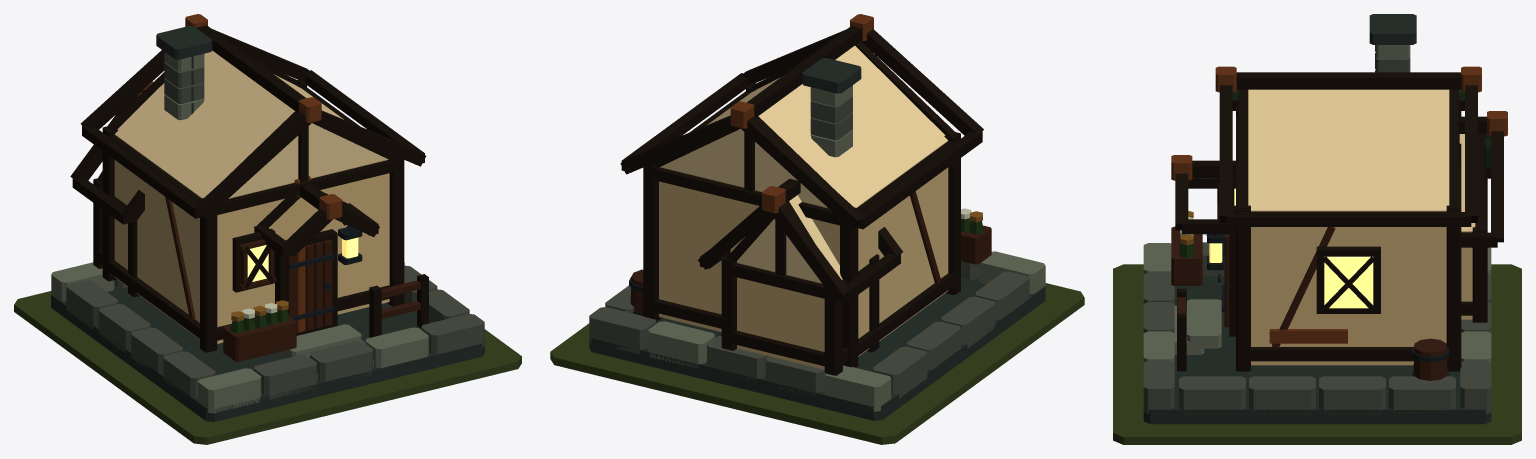
Rendered from cottage_t4.glb.
The picture shows the model from 3 angles, left to right: view 1: azimuth 30°, elevation 25°; view 2: azimuth 150°, elevation 25°; view 3: azimuth 270°, elevation 25°; orthographic projection. The views are drawn at different scales.
Visible parts, largest first — view 1: MMR | cottage | T04 Architecture.001, MMR | cottage | Tier 04 Ground.001; view 2: MMR | cottage | T04 Architecture.001, MMR | cottage | Tier 04 Ground.001; view 3: MMR | cottage | T04 Architecture.001, MMR | cottage | Tier 04 Ground.001.
Part boxes in pixels (x1=…): MMR | cottage | T04 Architecture.001: x1=51, y1=14, x2=484, y2=421; MMR | cottage | Tier 04 Ground.001: x1=14, y1=291, x2=521, y2=444; MMR | cottage | T04 Architecture.001: x1=589, y1=14, x2=1045, y2=420; MMR | cottage | Tier 04 Ground.001: x1=550, y1=283, x2=1084, y2=444; MMR | cottage | T04 Architecture.001: x1=1143, y1=14, x2=1507, y2=424; MMR | cottage | Tier 04 Ground.001: x1=1113, y1=264, x2=1521, y2=444.
Size of the model in its own units: 2.35 by 1.96 by 2.35.
2 materials, 1 textured.
